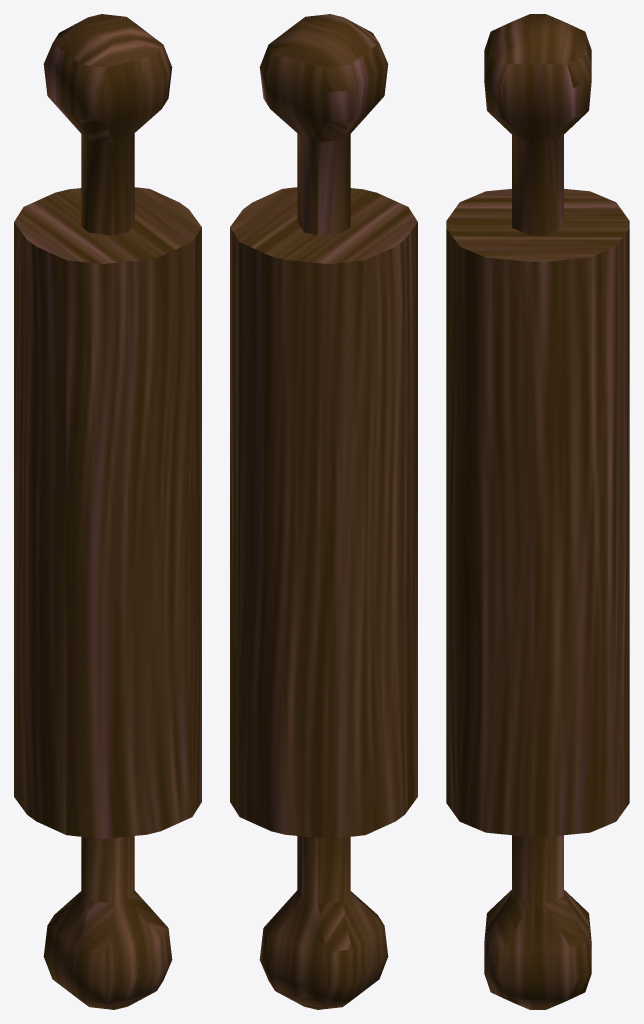
Rendered from RollingPin_Weapon_002.fbx.
3 renders of one model, left to right at view 1: azimuth 30°, elevation 25°; view 2: azimuth 150°, elevation 25°; view 3: azimuth 270°, elevation 25°, orthographic.
Visible parts, largest first — view 1: RollingPin; view 2: RollingPin; view 3: RollingPin.
Boxes of the visible parts, x1=… form: RollingPin: x1=14, y1=14, x2=201, y2=1009; RollingPin: x1=230, y1=14, x2=417, y2=1009; RollingPin: x1=446, y1=14, x2=629, y2=1009.
Bounding box in the file's own units: 18.32 × 112 × 19.07.
1 material, 1 textured.
